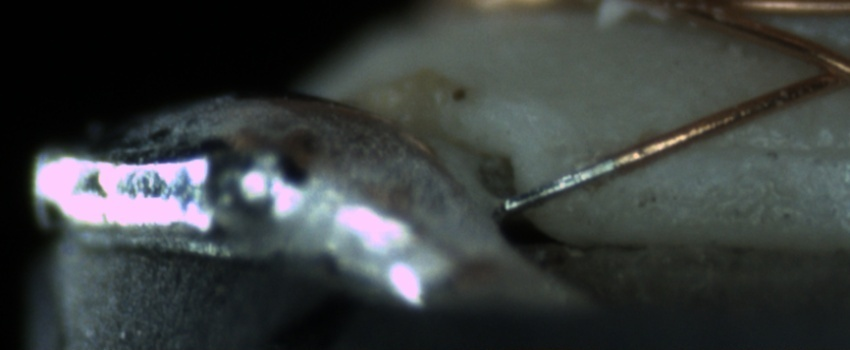CL: (794, 41, 849, 98)
DL: (678, 118, 847, 181)
TS: (494, 156, 613, 214)
